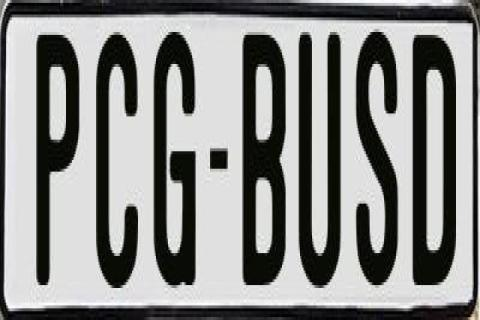B: (242, 35, 288, 294)
C: (92, 29, 134, 291)
D: (410, 32, 456, 288)
G: (150, 29, 200, 303)
P: (36, 32, 80, 291)
S: (356, 24, 404, 294)
U: (300, 23, 344, 280)
